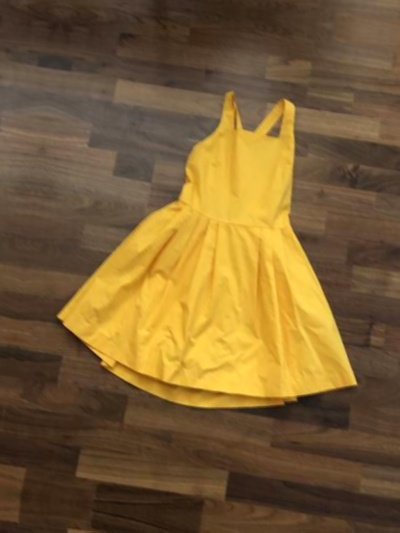Dress: (32, 29, 400, 447), (0, 0, 35, 391), (97, 0, 400, 0)
